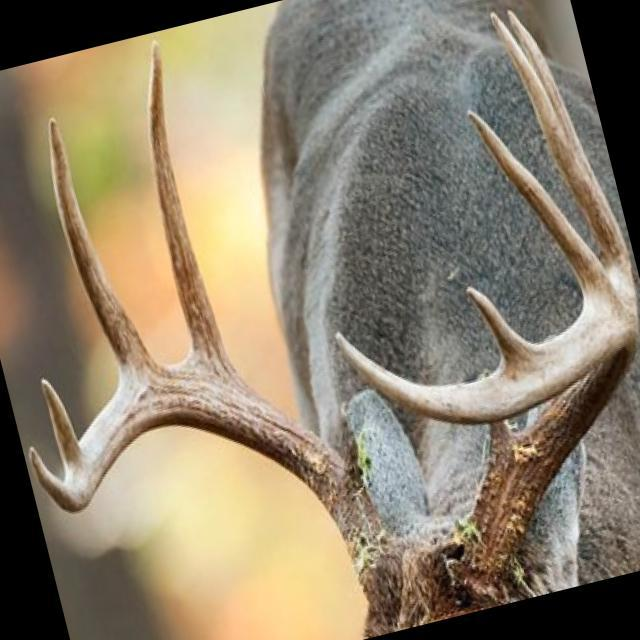L-F: (331, 265, 640, 605)
L-G3: (484, 2, 630, 264)
L-G4: (462, 103, 606, 298)
L-G5: (465, 283, 541, 369)
R-F: (22, 361, 392, 591)
R-G1: (341, 409, 368, 495)
R-G2: (148, 36, 244, 379)
R-G3: (44, 108, 158, 387)
R-G4: (38, 376, 77, 474)
